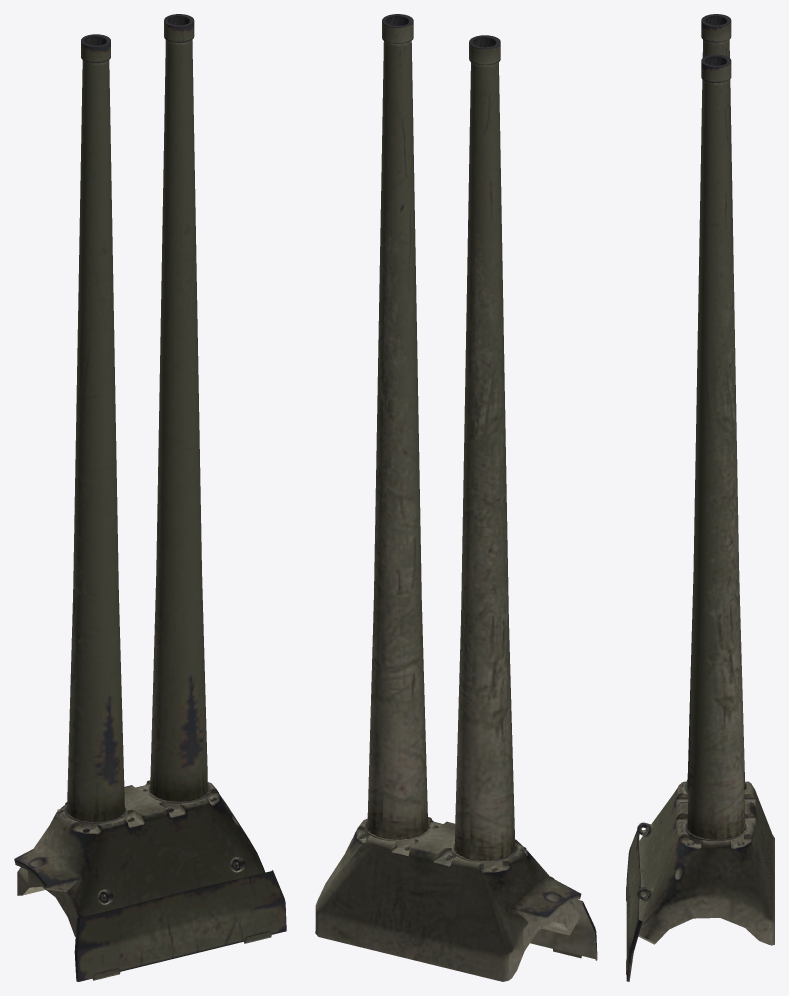
Rendered from Gun_01.glb.
3 views of the same model, side by side, from view 1: azimuth 30°, elevation 25°; view 2: azimuth 150°, elevation 25°; view 3: azimuth 270°, elevation 25° (orthographic). The views are drawn at different scales.
Visible parts, largest first — view 1: set_0_group_0; view 2: set_0_group_0; view 3: set_0_group_0.
Boxes of the visible parts, x1=… form: set_0_group_0: x1=14, y1=14, x2=286, y2=981; set_0_group_0: x1=315, y1=14, x2=597, y2=981; set_0_group_0: x1=626, y1=14, x2=774, y2=981.
Bounding box in the file's own units: 1.15 × 4.52 × 0.6836.
1 material, 1 textured.
